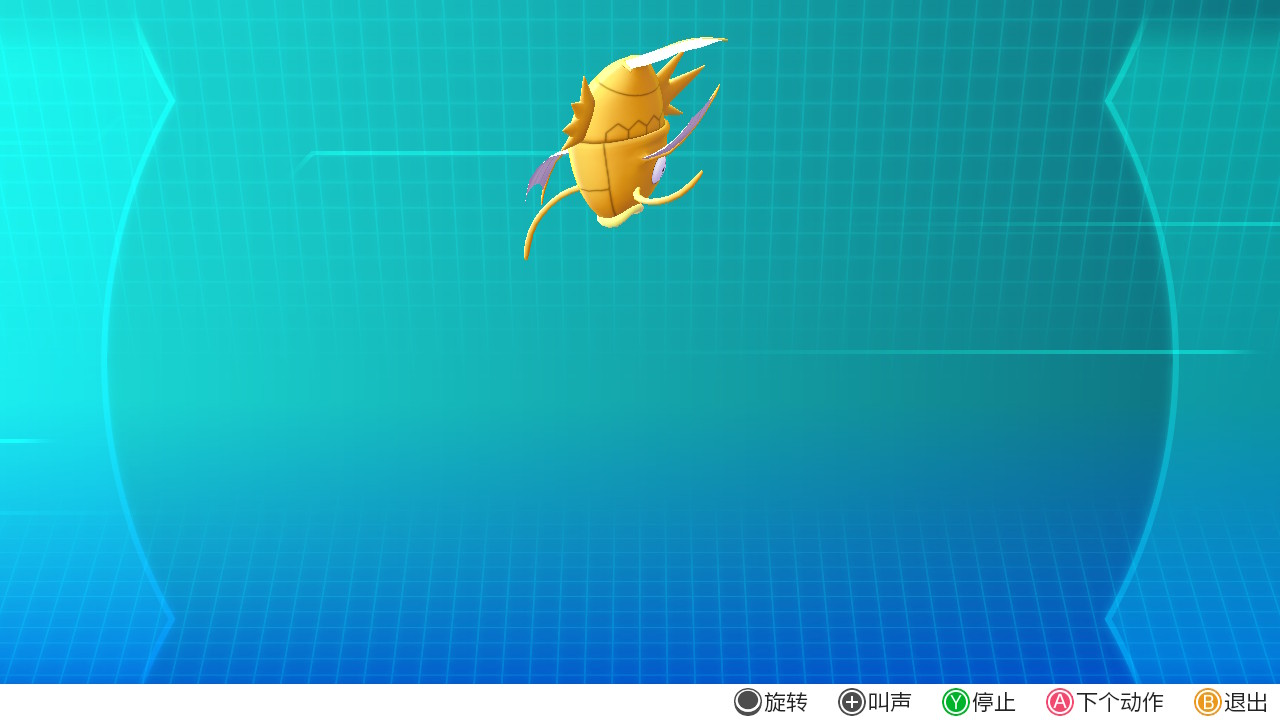Golden: (502, 32, 738, 275)
